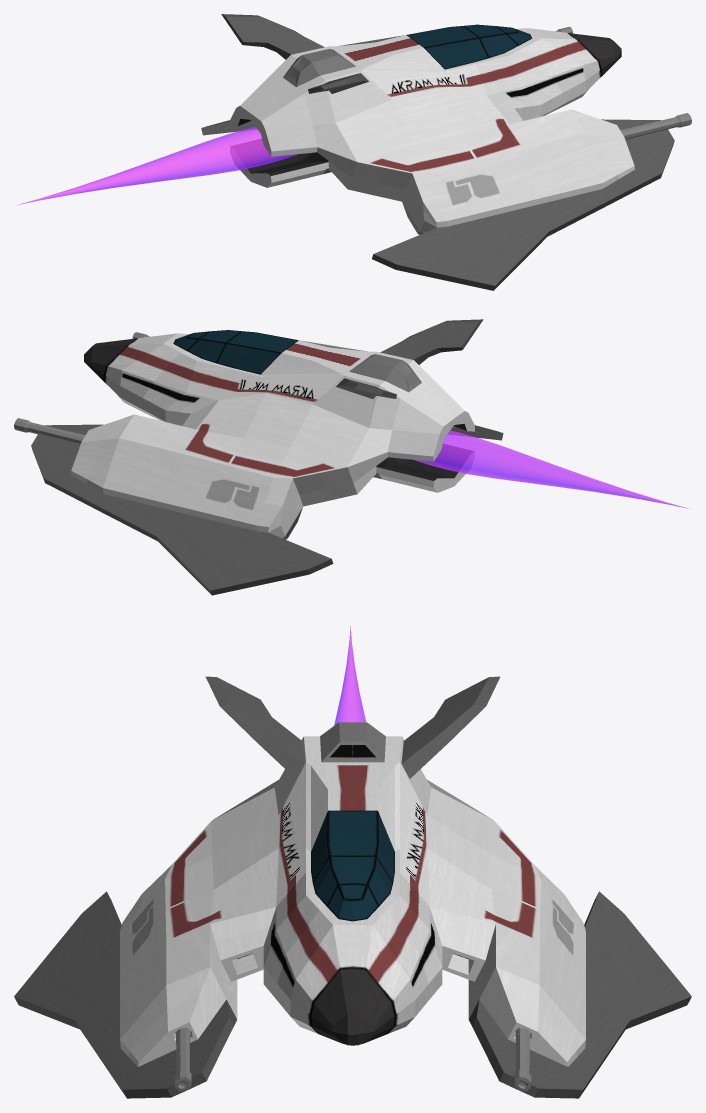
The model's file is spaceship.glb.
The picture shows the model from 3 angles, top to bottom: view 1: azimuth 30°, elevation 25°; view 2: azimuth 150°, elevation 25°; view 3: azimuth 270°, elevation 25°; orthographic projection. The views are drawn at different scales.
Parts seen in each view (by area): view 1: model, Exhaust; view 2: model, Exhaust; view 3: model, Exhaust.
Boxes of the visible parts, <box> form: model: <box>201,14,691,290</box>; Exhaust: <box>16,127,296,205</box>; model: <box>14,319,503,595</box>; Exhaust: <box>414,430,689,508</box>; model: <box>14,676,691,1098</box>; Exhaust: <box>334,626,365,725</box>.
Size of the model in its own units: 14.91 by 4.14 by 9.92.
Materials: 2 (1 with a texture image).
